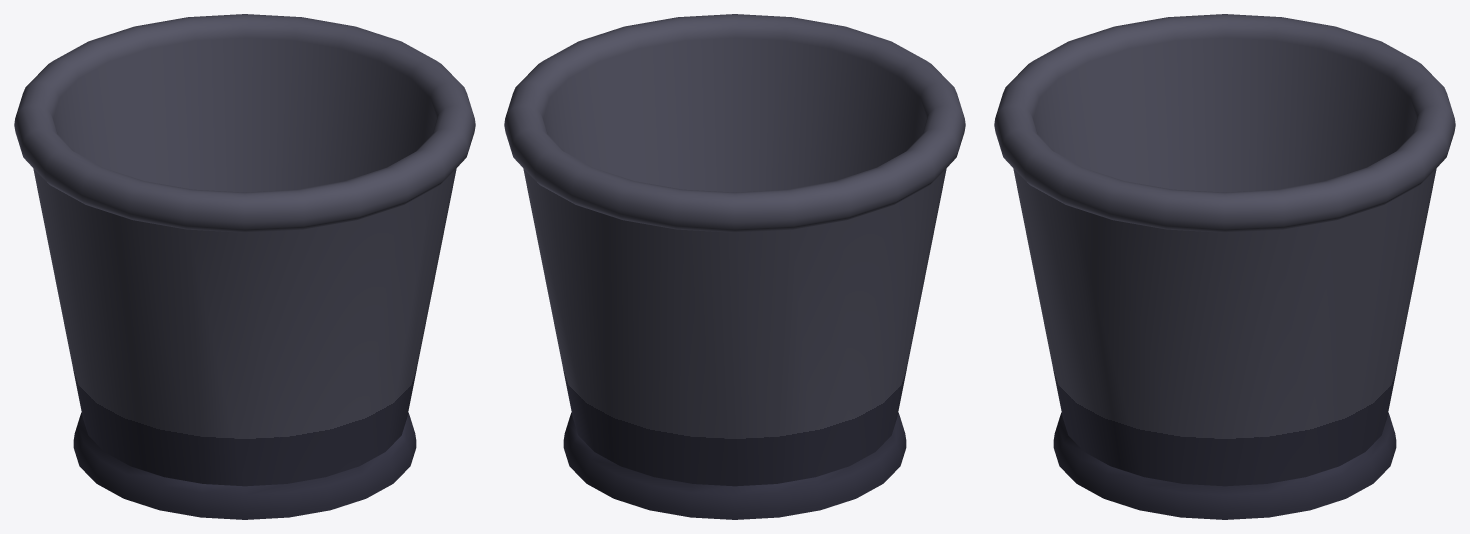
File: cesto_basur.fbx
The picture shows the model from 3 angles, left to right: view 1: azimuth 30°, elevation 25°; view 2: azimuth 150°, elevation 25°; view 3: azimuth 270°, elevation 25°; orthographic projection.
Visible parts, largest first — view 1: cesto_basur; view 2: cesto_basur; view 3: cesto_basur.
Part boxes in pixels (box(x1,y1,x2,y2)): cesto_basur: box(14, 14, 475, 519); cesto_basur: box(504, 14, 965, 519); cesto_basur: box(994, 14, 1455, 519).
Bounding box in the file's own units: 148 × 121 × 148.
